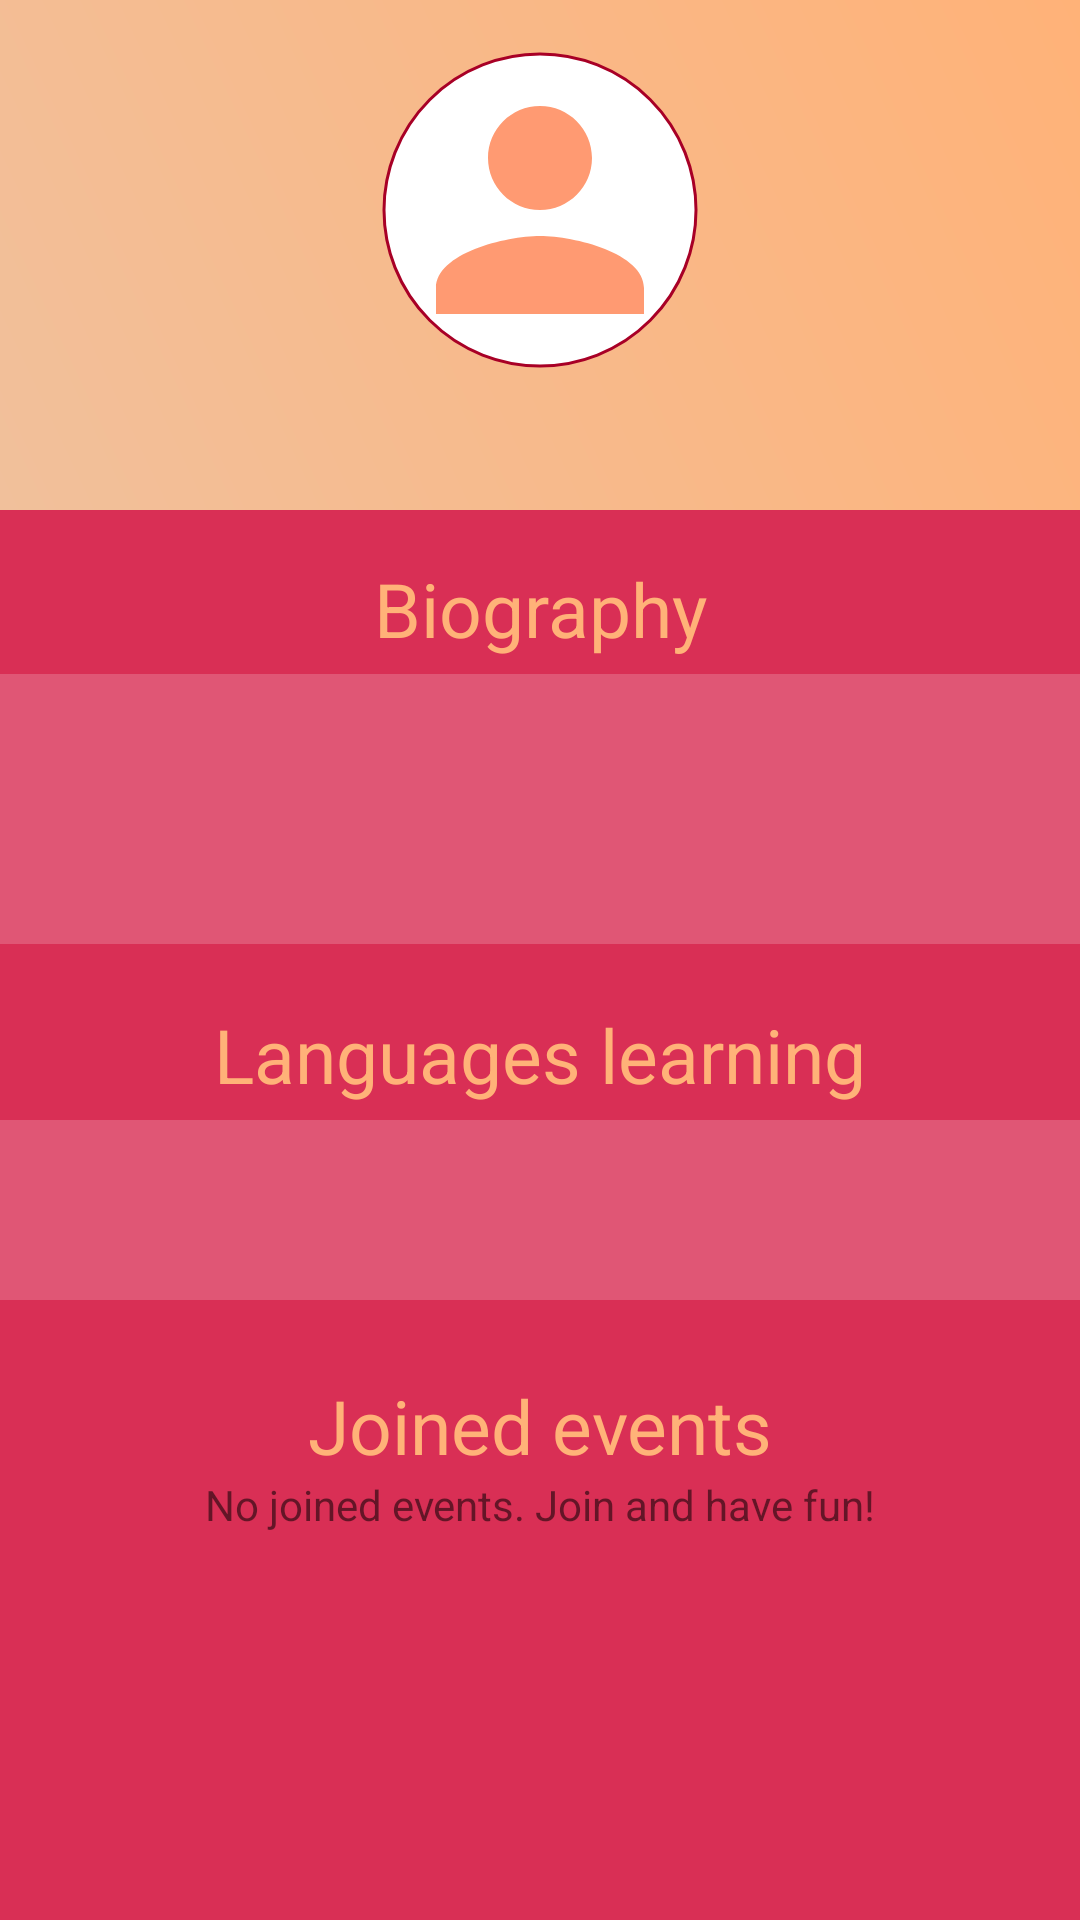

Icons on this 1080w x 1920h Android screen, each with its box as BBox(x1, y1, x2, y2):
person: BBox(382, 52, 698, 368)
